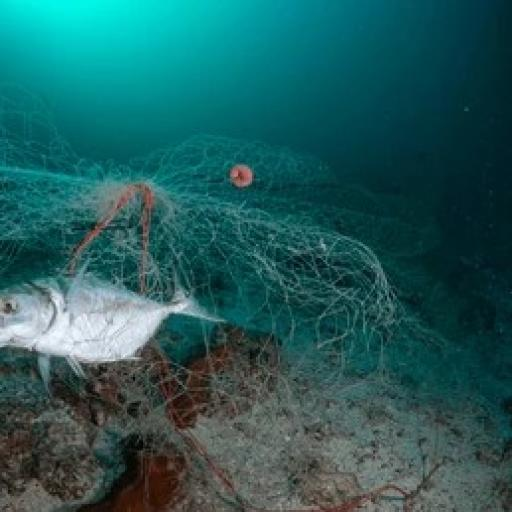net: (0, 102, 503, 381)
